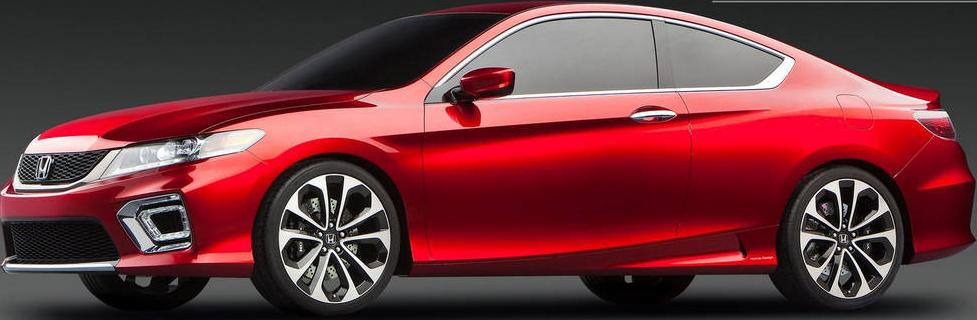backlight: (903, 95, 972, 159)
front_view: (3, 130, 285, 300)
headlight: (78, 121, 278, 194)
side_glass: (447, 14, 789, 111)
